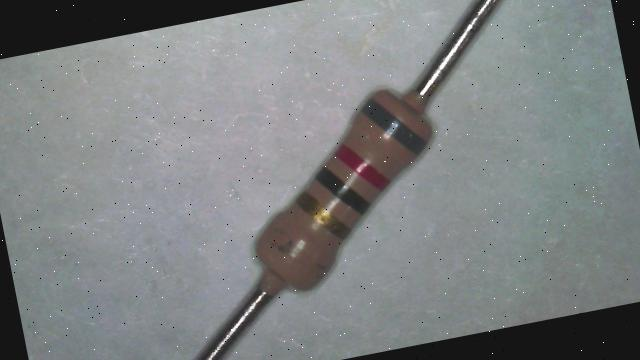black: (314, 160, 372, 222)
gold: (296, 183, 354, 246)
grey: (359, 89, 430, 164)
red: (334, 136, 392, 198)
resistor: (234, 59, 460, 313)
